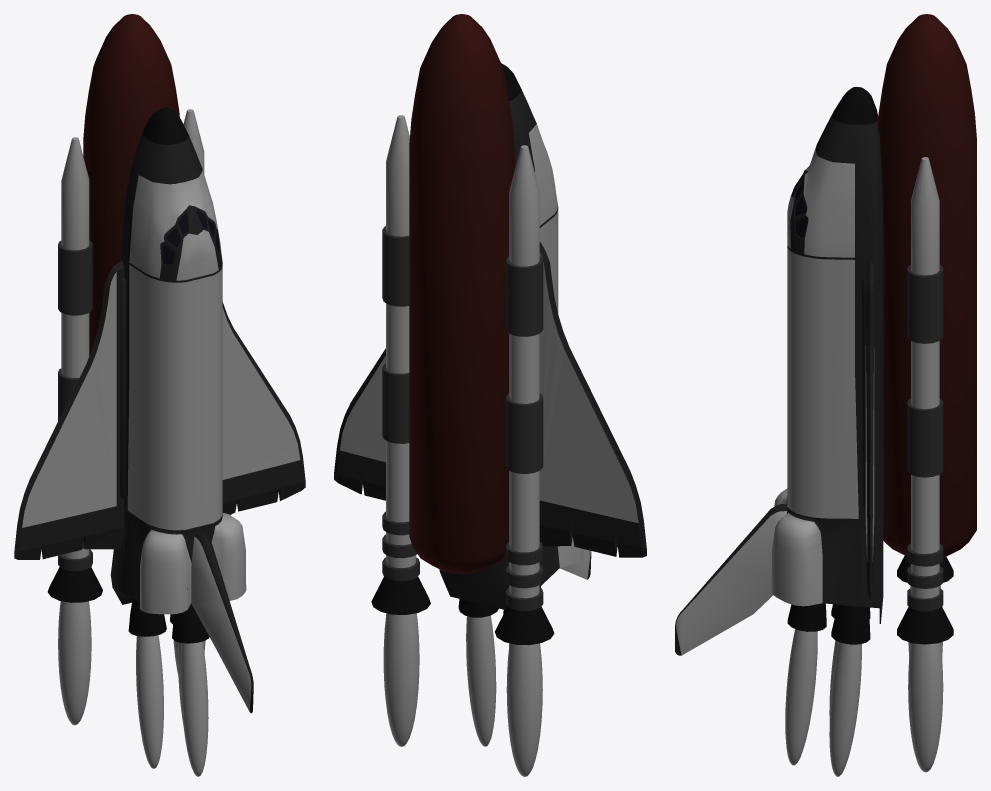
Rendered from Shuttle.FBX.
3 renders of one model, left to right at view 1: azimuth 30°, elevation 25°; view 2: azimuth 150°, elevation 25°; view 3: azimuth 270°, elevation 25°, orthographic. The views are drawn at different scales.
Visible parts, largest first — view 1: Shuttle_Body, Shuttle_Wing2, Shuttle_FuelTank, Shuttle_Wing1, Shuttle_FuelThruster1, FuelTruster_Flame002, ShuttleTruster_Flame003, ShuttleTruster_Flame002, Shuttle_FuelThruster2; view 2: Shuttle_FuelTank, Shuttle_FuelThruster1, Shuttle_Wing2, Shuttle_FuelThruster2, Shuttle_Body, Shuttle_Wing1, FuelTruster_Flame001, FuelTruster_Flame002, ShuttleTruster_Flame001; view 3: Shuttle_Body, Shuttle_FuelTank, Shuttle_FuelThruster2, Shuttle_Wing1, FuelTruster_Flame001, ShuttleTruster_Flame003, ShuttleTruster_Flame001.
Part boxes in pixels (x1,y1,x2,y2): Shuttle_Body: (110, 107, 253, 713); Shuttle_Wing2: (14, 261, 125, 559); Shuttle_FuelTank: (83, 14, 179, 355); Shuttle_Wing1: (222, 302, 305, 514); Shuttle_FuelThruster1: (47, 137, 102, 602); FuelTruster_Flame002: (58, 601, 91, 725); ShuttleTruster_Flame003: (180, 641, 208, 776); ShuttleTruster_Flame002: (136, 635, 163, 768); Shuttle_FuelThruster2: (183, 109, 204, 173); Shuttle_FuelTank: (409, 14, 514, 573); Shuttle_FuelThruster1: (495, 145, 554, 645); Shuttle_Wing2: (539, 242, 646, 557); Shuttle_FuelThruster2: (371, 115, 430, 614); Shuttle_Body: (439, 63, 591, 617); Shuttle_Wing1: (334, 348, 385, 500); FuelTruster_Flame001: (383, 613, 419, 746); FuelTruster_Flame002: (506, 643, 542, 776); ShuttleTruster_Flame001: (466, 615, 496, 746); Shuttle_Body: (675, 87, 883, 655); Shuttle_FuelTank: (878, 14, 976, 557); Shuttle_FuelThruster2: (897, 157, 953, 644); Shuttle_Wing1: (862, 261, 874, 600); FuelTruster_Flame001: (908, 642, 943, 772); ShuttleTruster_Flame003: (785, 629, 817, 765); ShuttleTruster_Flame001: (829, 642, 861, 776).
Size of the model in its own units: 17.53 by 41.34 by 15.04.
